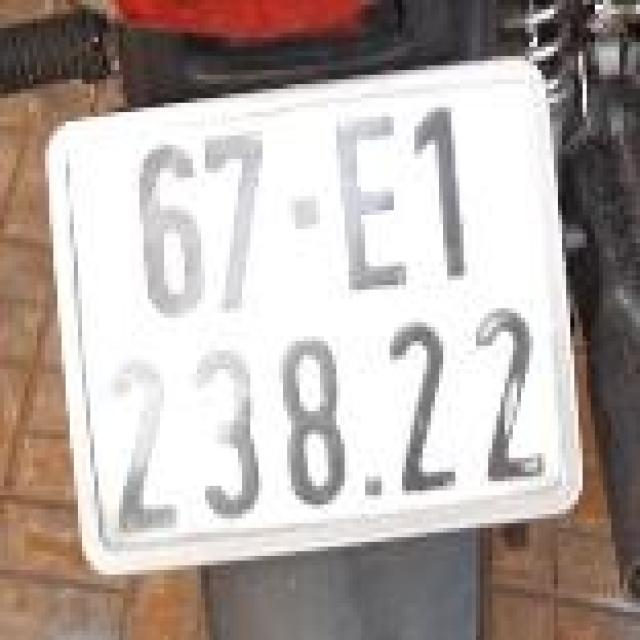1: (408, 103, 482, 290)
2: (459, 306, 558, 483), (92, 358, 183, 540), (388, 320, 462, 498)
3: (192, 346, 266, 523)
6: (127, 133, 209, 320)
7: (203, 123, 269, 324)
8: (277, 329, 359, 507)
E: (332, 112, 414, 294)
